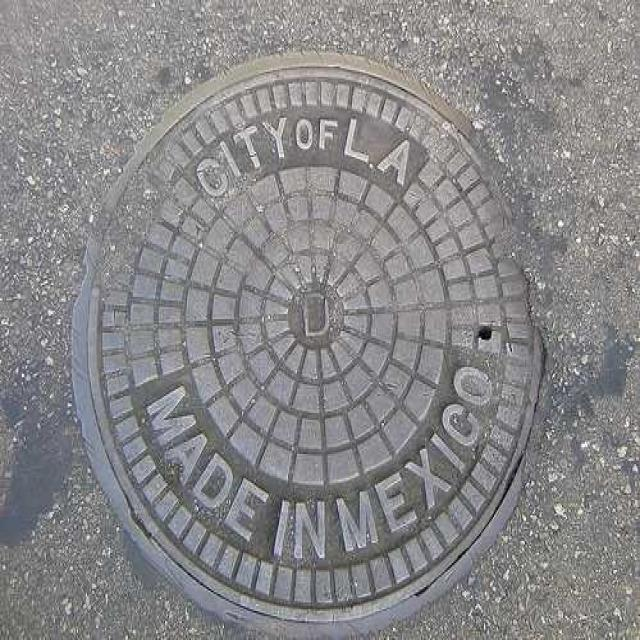manhole: (70, 55, 545, 631)
